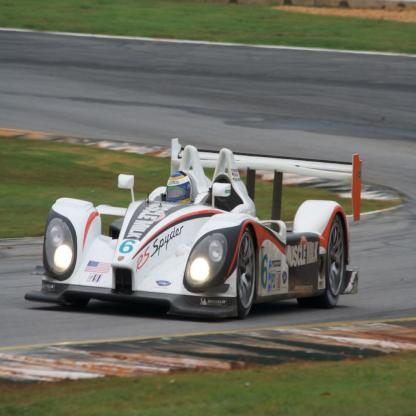Car: (24, 138, 362, 319)
